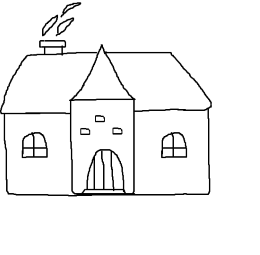closed_window: (153, 126, 191, 167), (14, 127, 57, 161)
door: (82, 142, 128, 199)
roof: (2, 46, 223, 117)
smoking_chimney: (33, 1, 83, 57)
wall: (0, 106, 215, 204)
